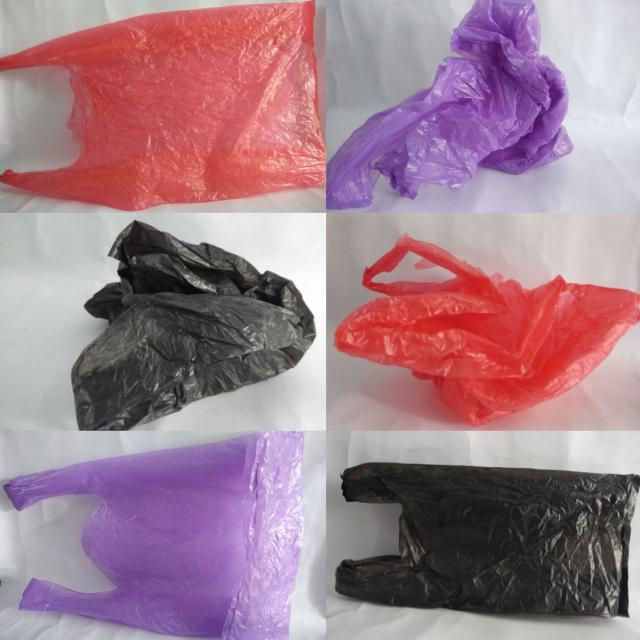plastik: (0, 1, 326, 211), (4, 432, 304, 640), (335, 235, 640, 426), (327, 0, 572, 209), (72, 221, 316, 430), (336, 462, 640, 617)
